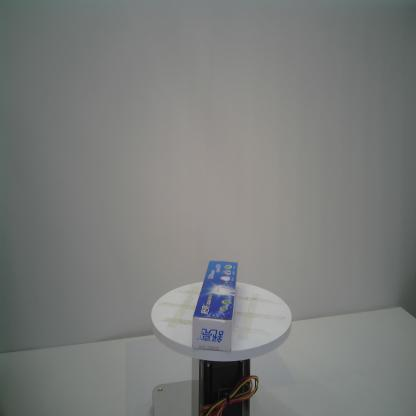Personal Hygiene: (190, 259, 238, 353)
